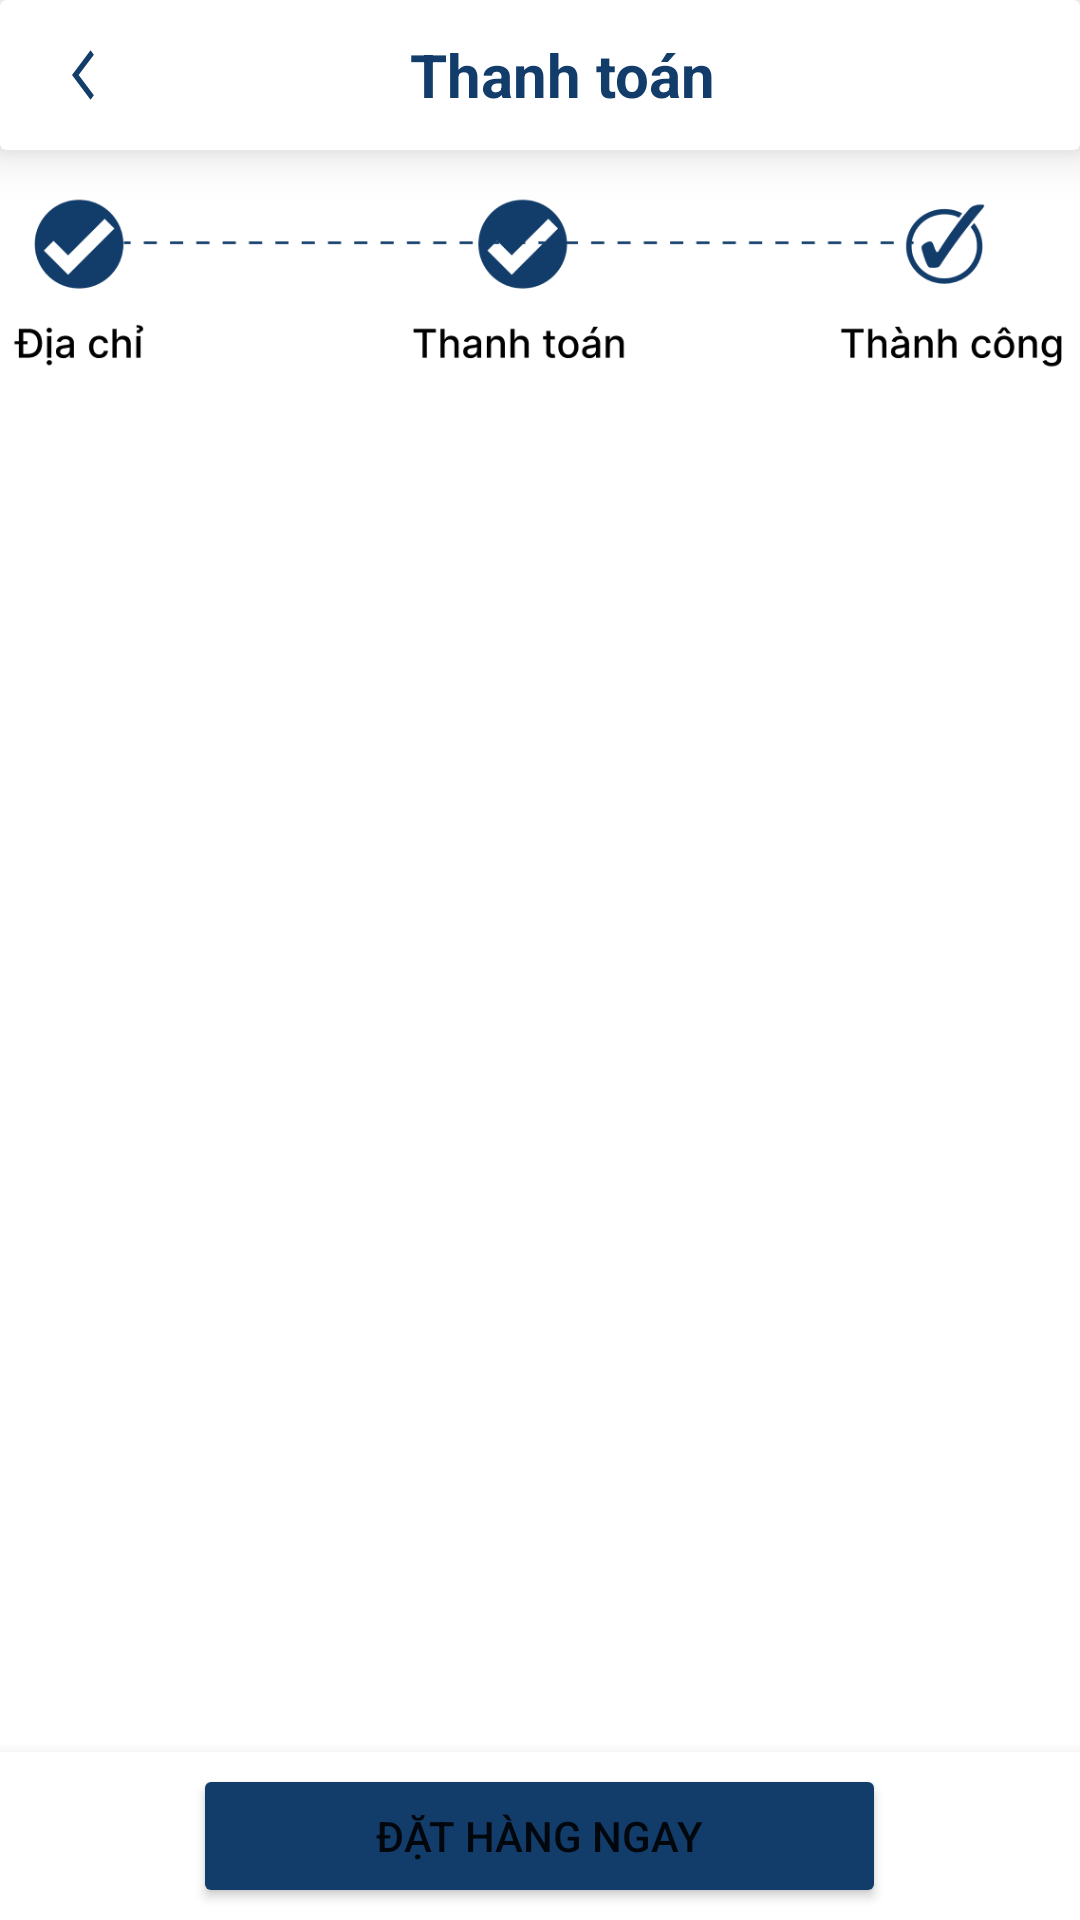

Icon click points for this 1080×1920 phone screenshot, format [x,y]:
back: [83,75]
